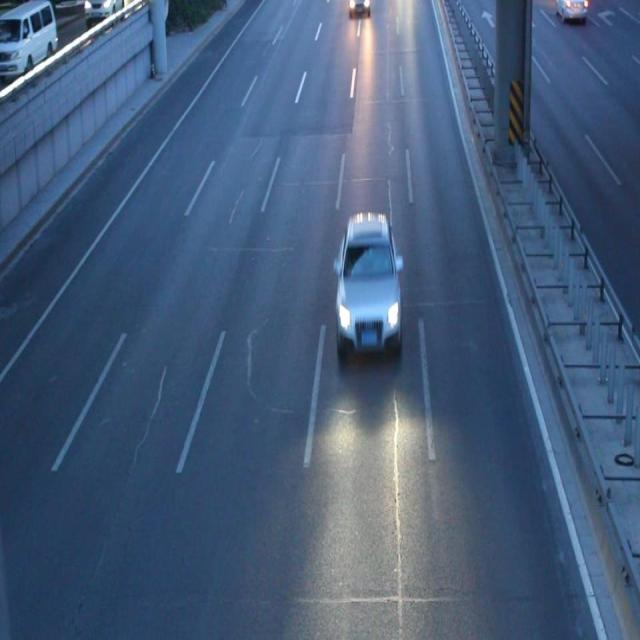car: (333, 214, 403, 356)
